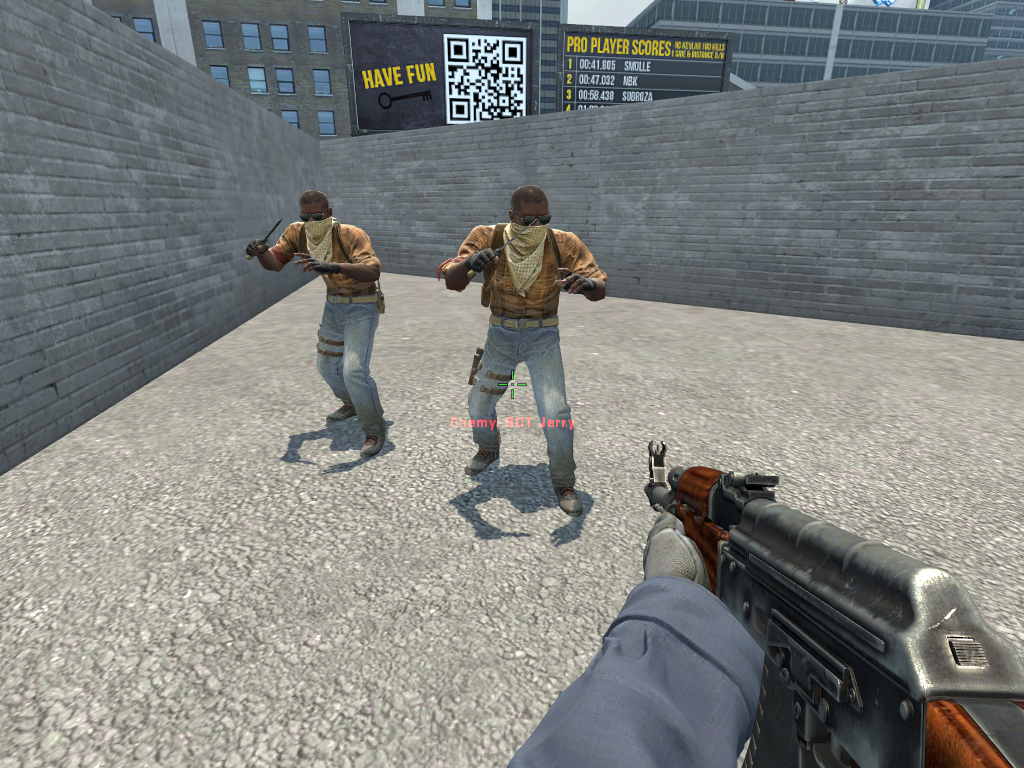tr head: (504, 182, 552, 257), (296, 189, 334, 247)
